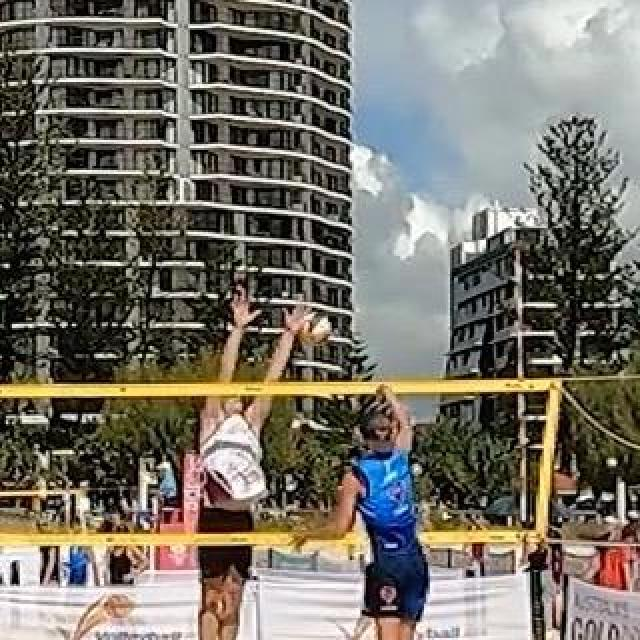volleyball: (296, 312, 332, 346)
